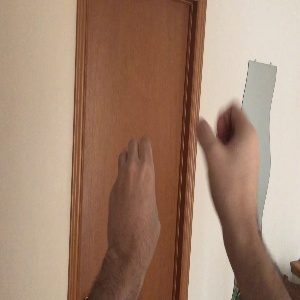hand: (197, 106, 259, 233), (108, 136, 161, 252)
